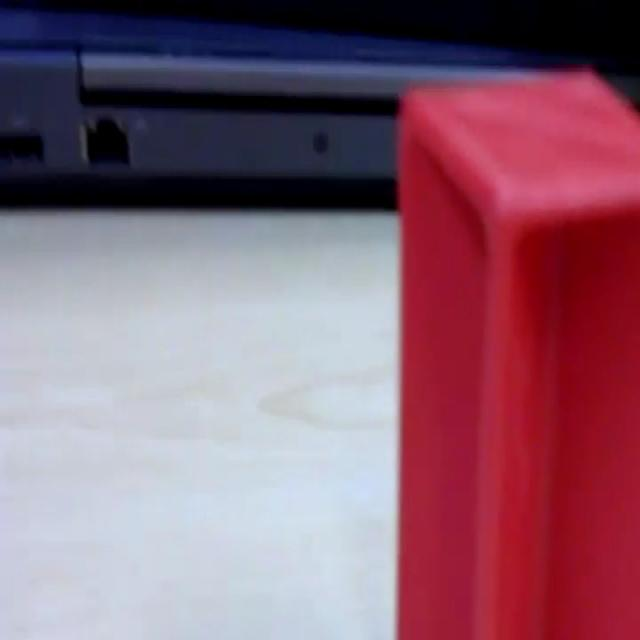red_block: (394, 65, 638, 636)
